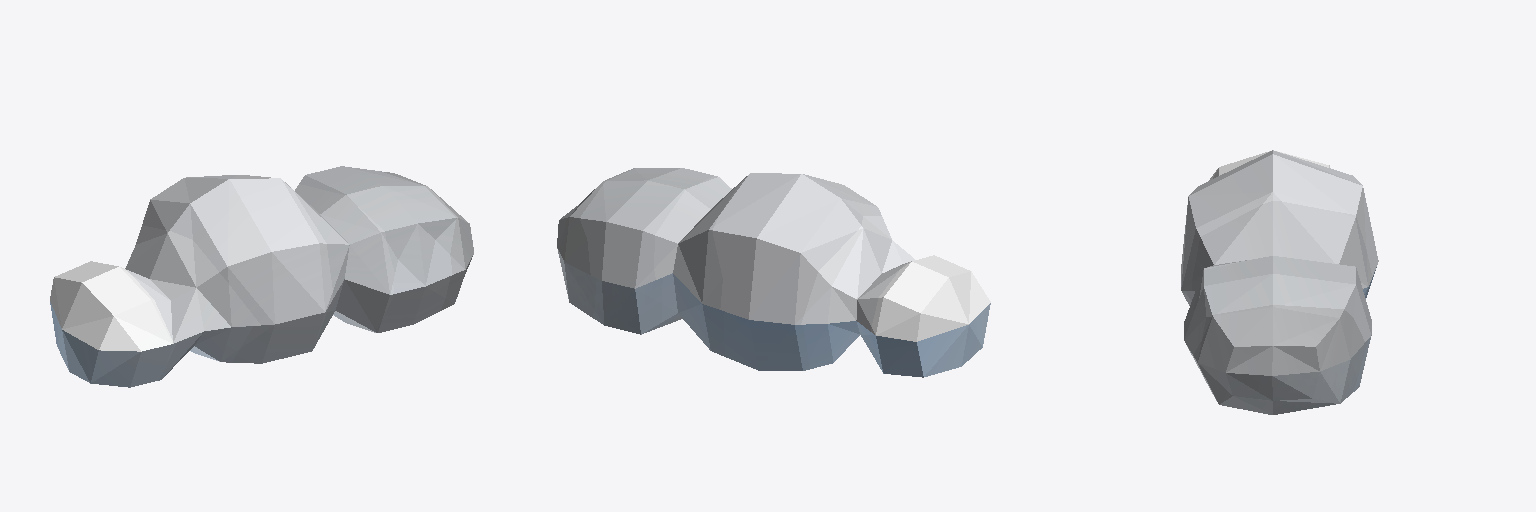
3 renders of one model, left to right at view 1: azimuth 30°, elevation 25°; view 2: azimuth 150°, elevation 25°; view 3: azimuth 270°, elevation 25°, orthographic.
Parts seen in each view (by area): view 1: Plane; view 2: Plane; view 3: Plane.
Part boxes in pixels (x1,y1,x2,y2): Plane: (50,166,473,387); Plane: (557,168,990,377); Plane: (1181,150,1378,414).
Size of the model in its own units: 3.29 by 1.39 by 1.43.
Materials: 1 (1 with a texture image).